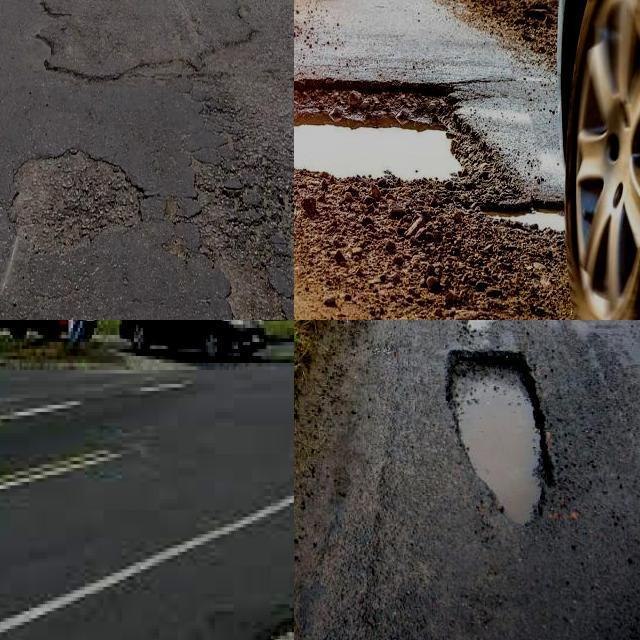Pothole: (294, 79, 495, 183), (445, 350, 553, 520), (8, 140, 138, 245), (207, 240, 291, 320), (475, 199, 567, 232)
